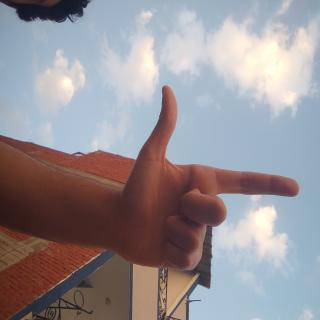LAAM: (59, 24, 204, 292)
